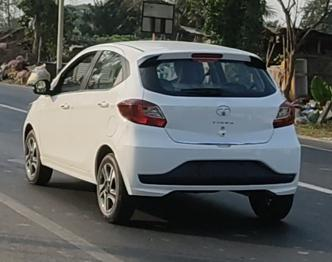Car: (21, 39, 304, 233)
